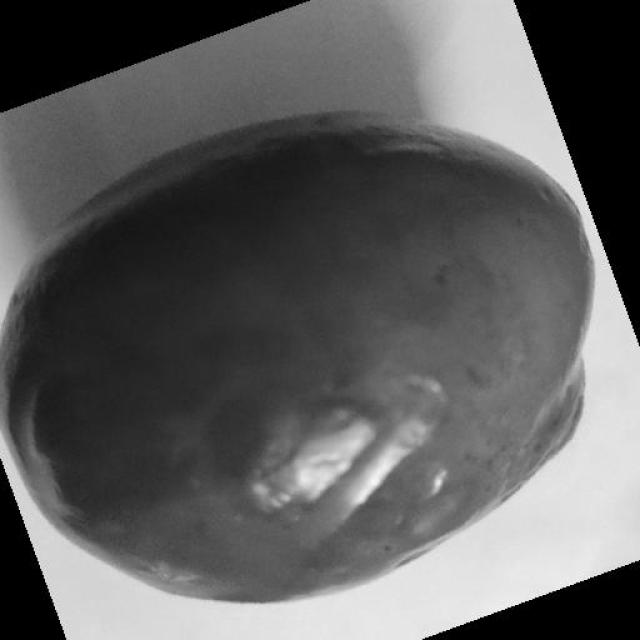Stale_tomato: (4, 134, 618, 586)
